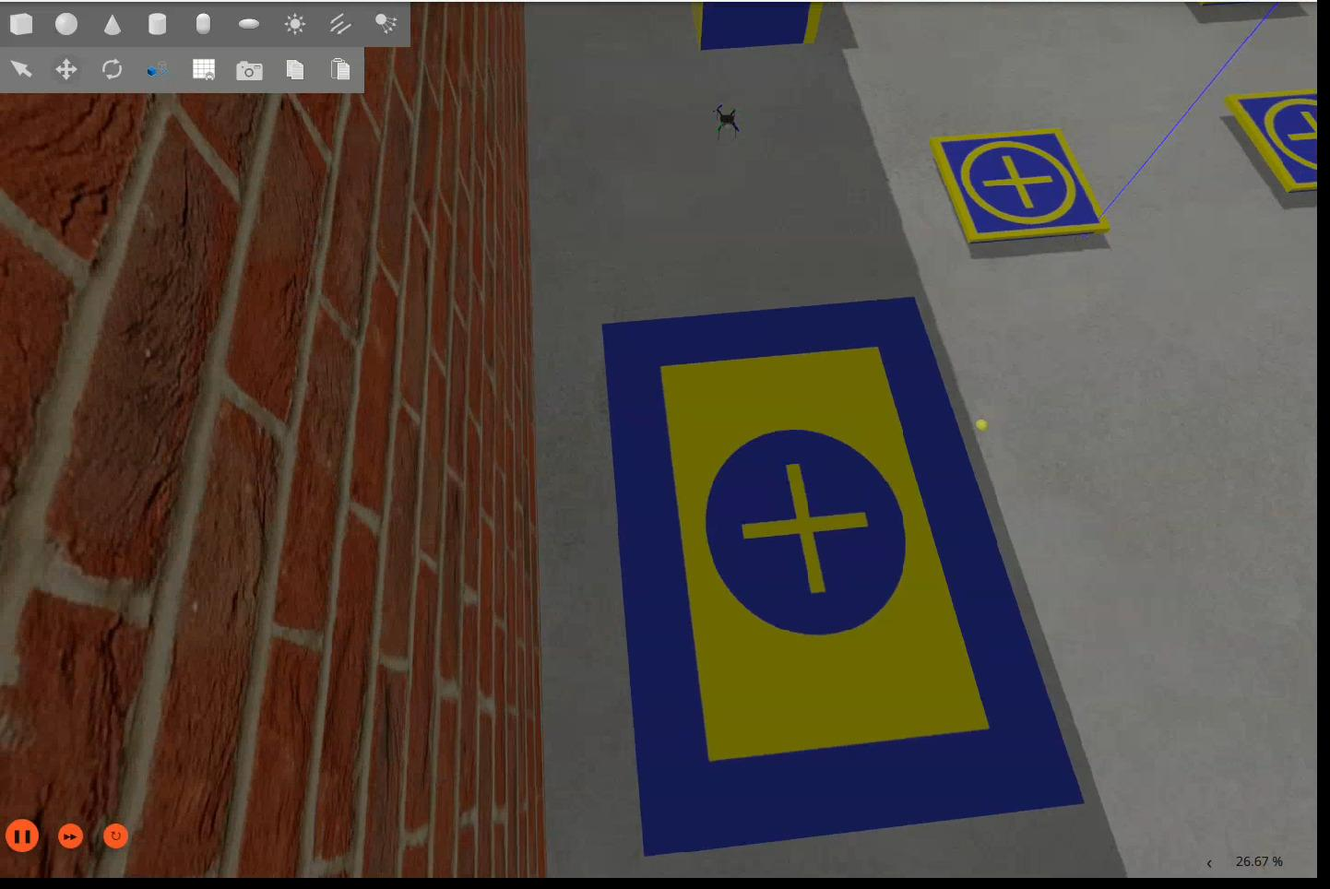large_base: (601, 295, 1085, 859)
small_base: (931, 129, 1113, 248), (1224, 88, 1319, 194)
